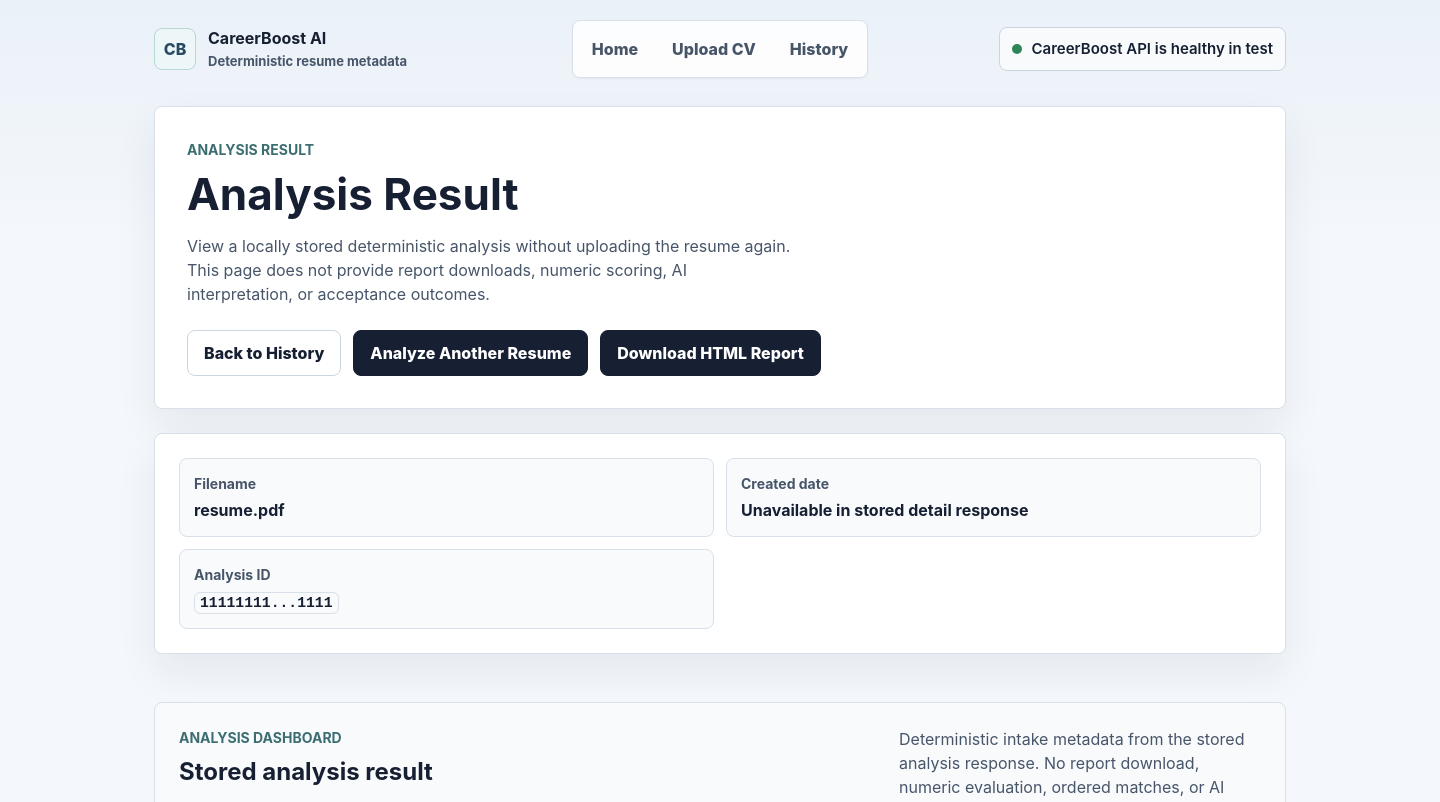
Test: App › renders a safe report download error
Click the button "Download HTML Report": (711, 353) [600,330,821,376]
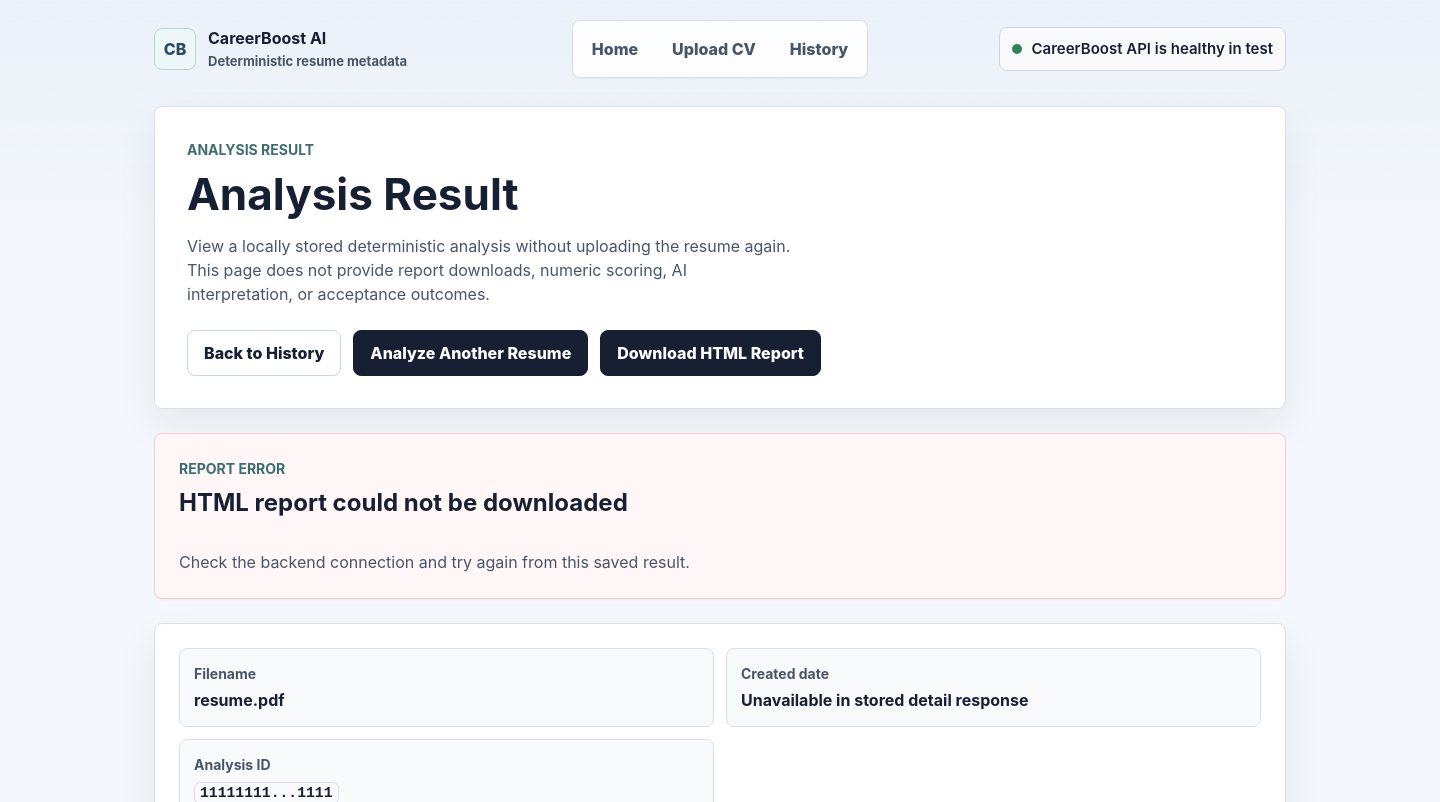
expect the message shows "HTML report could not be downloaded": met, box [179,488,628,517]
expect the message shows "Check the backend connection and try again from this saved result.": met, box [179,552,690,572]
